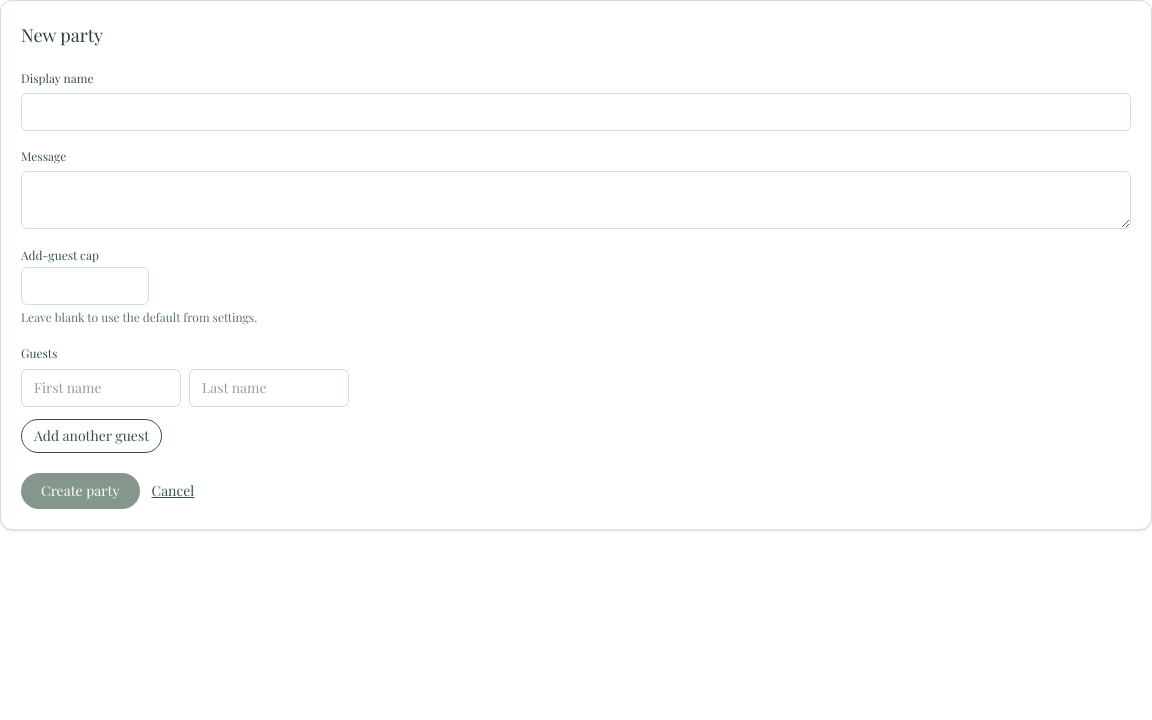
Test: NewPartyForm › refuses to submit a half-filled guest row rather than dropping it
In the field labelled "Display name": (576, 112) [21, 93, 1131, 131], type "The Smith Family"
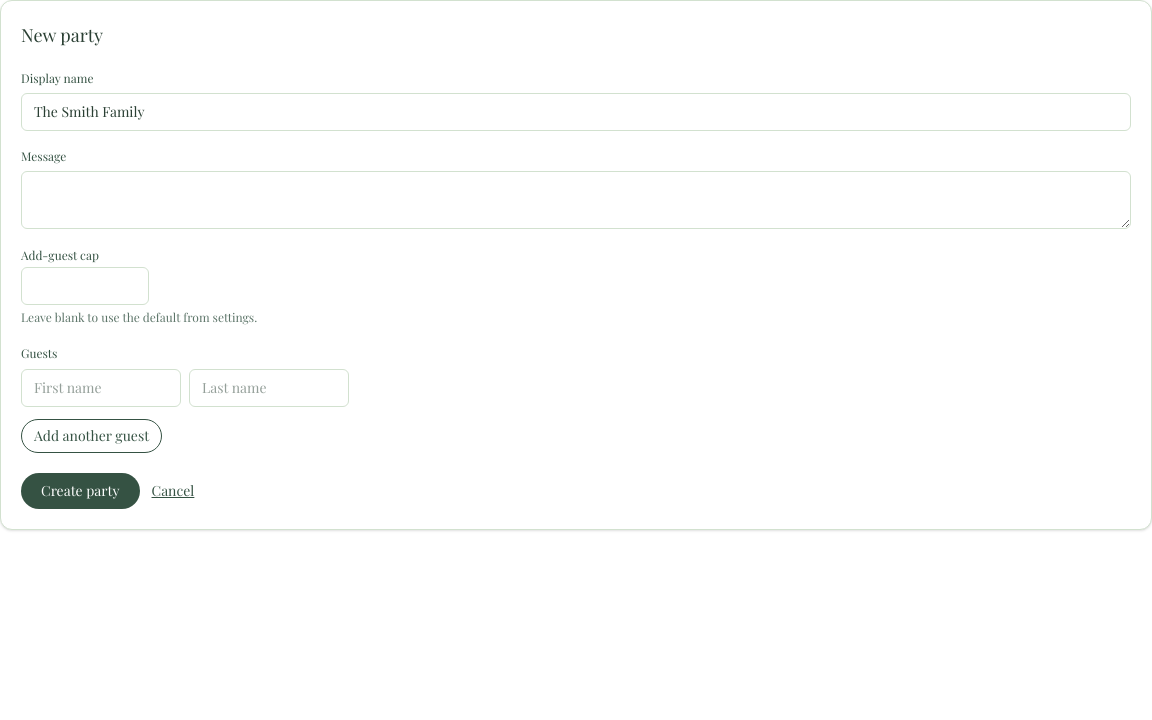
In the field named "Guest 1 first name": (101, 388) [21, 369, 181, 407], type "John"
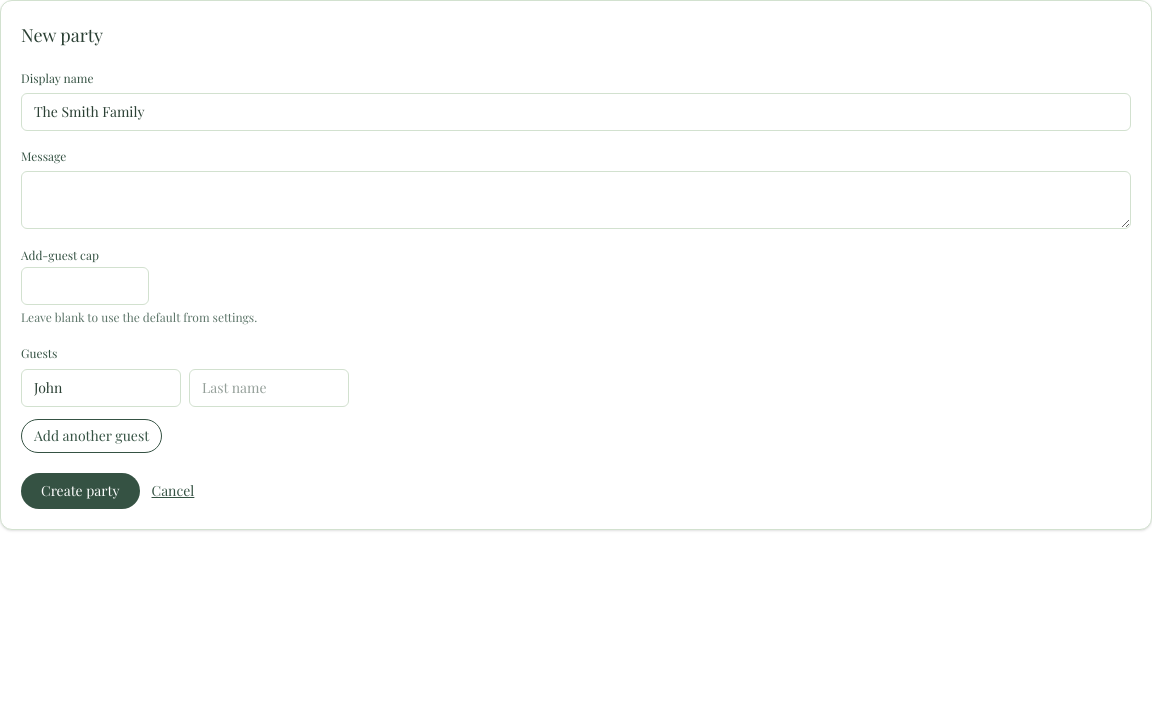
Click the button "Create party": (80, 491) [21, 473, 140, 509]
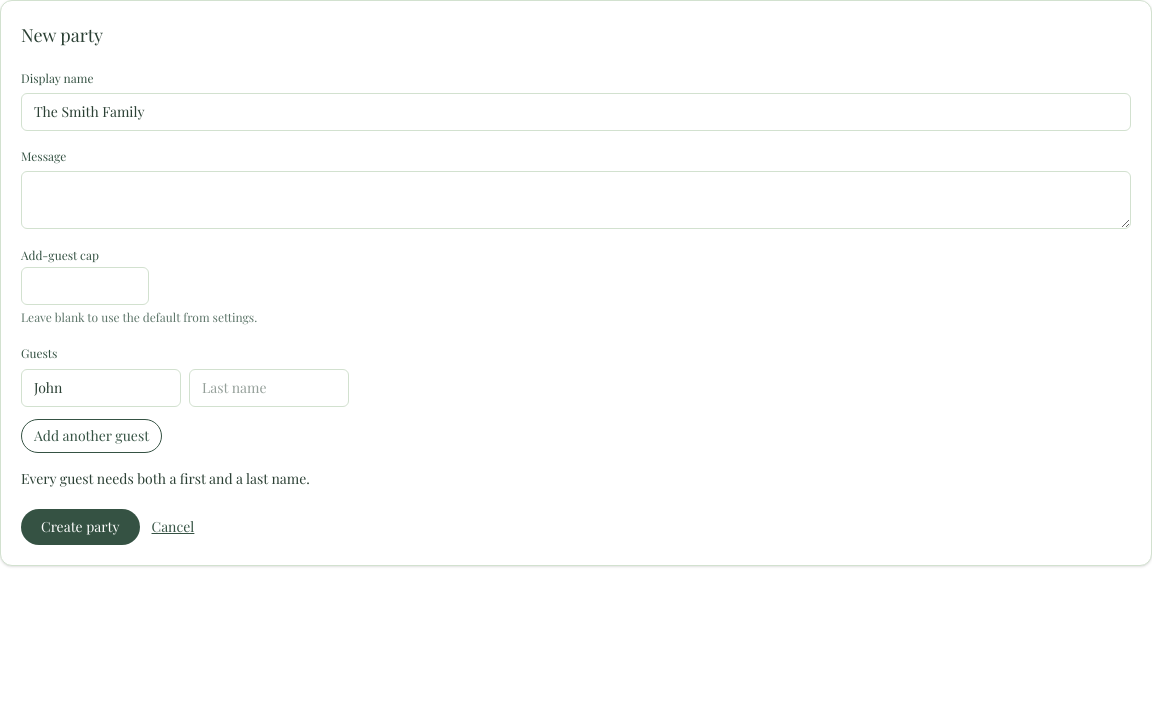
Now the message with test id "new-party-error" reads "Every guest needs both a first and a last name.", box [21, 469, 310, 488]
